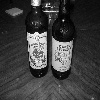beer: (24, 1, 48, 78)
